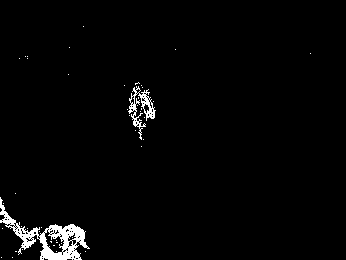person: (128, 82, 156, 140)
